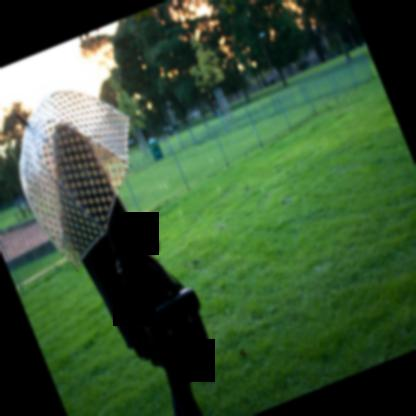handbag: (114, 258, 208, 367)
